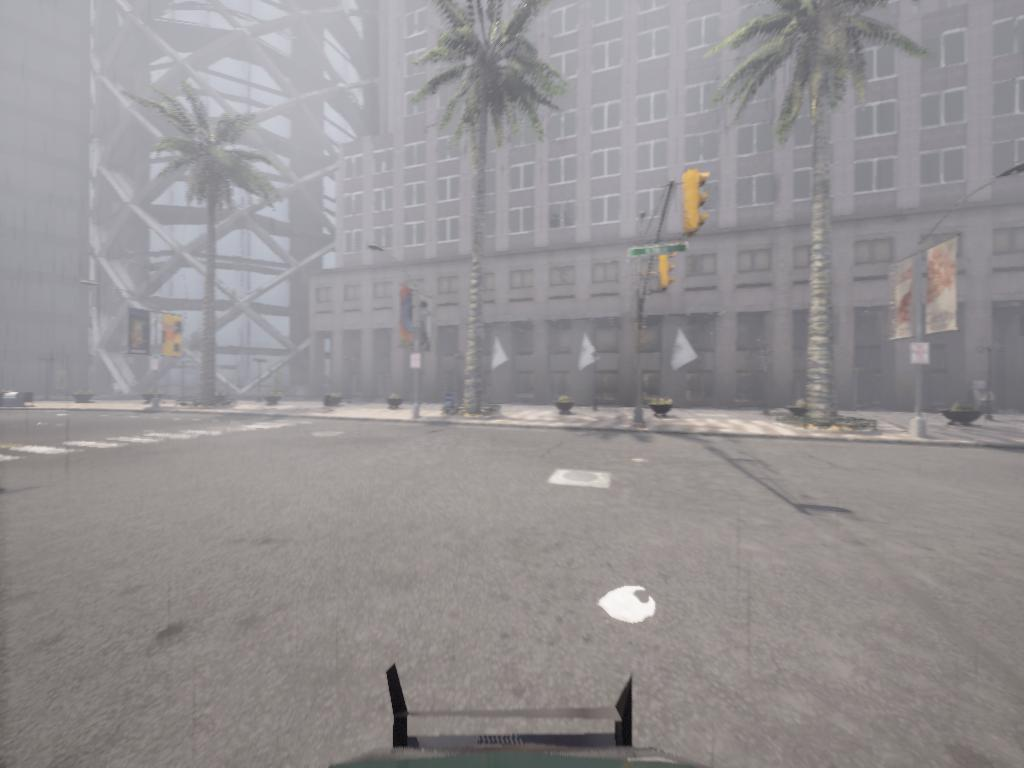traffic_light: (679, 170, 713, 234), (658, 250, 683, 291)
